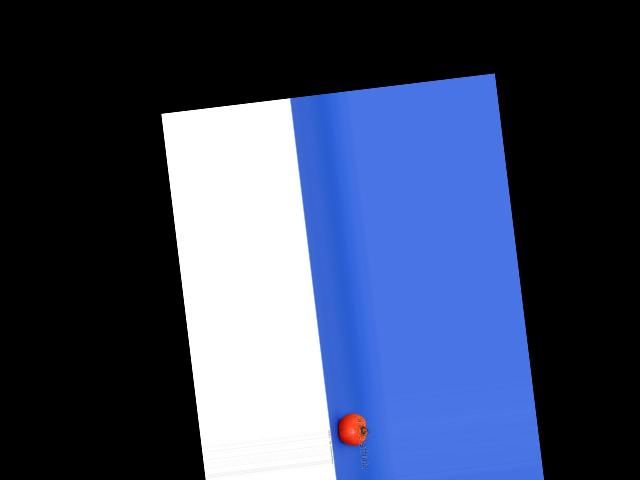tomato: (336, 411, 368, 446)
